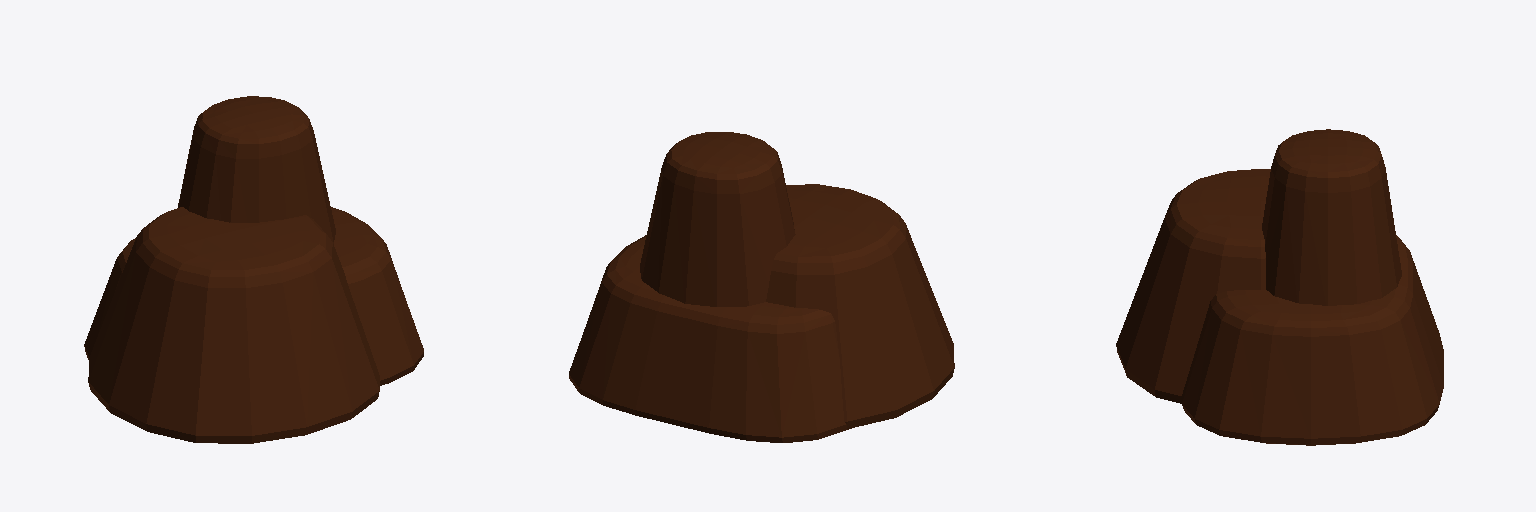
File: RockPlatforms_3.obj
The picture shows the model from 3 angles: view 1: azimuth 30°, elevation 25°; view 2: azimuth 150°, elevation 25°; view 3: azimuth 270°, elevation 25°; orthographic projection.
Visible parts, largest first — view 1: RockPlatforms_3_Cube.378; view 2: RockPlatforms_3_Cube.378; view 3: RockPlatforms_3_Cube.378.
Boxes of the visible parts, <box> form: RockPlatforms_3_Cube.378: <box>84,96,423,443</box>; RockPlatforms_3_Cube.378: <box>569,132,954,442</box>; RockPlatforms_3_Cube.378: <box>1116,129,1443,445</box>.
Bounding box in the file's own units: 6 × 4.38 × 5.44.